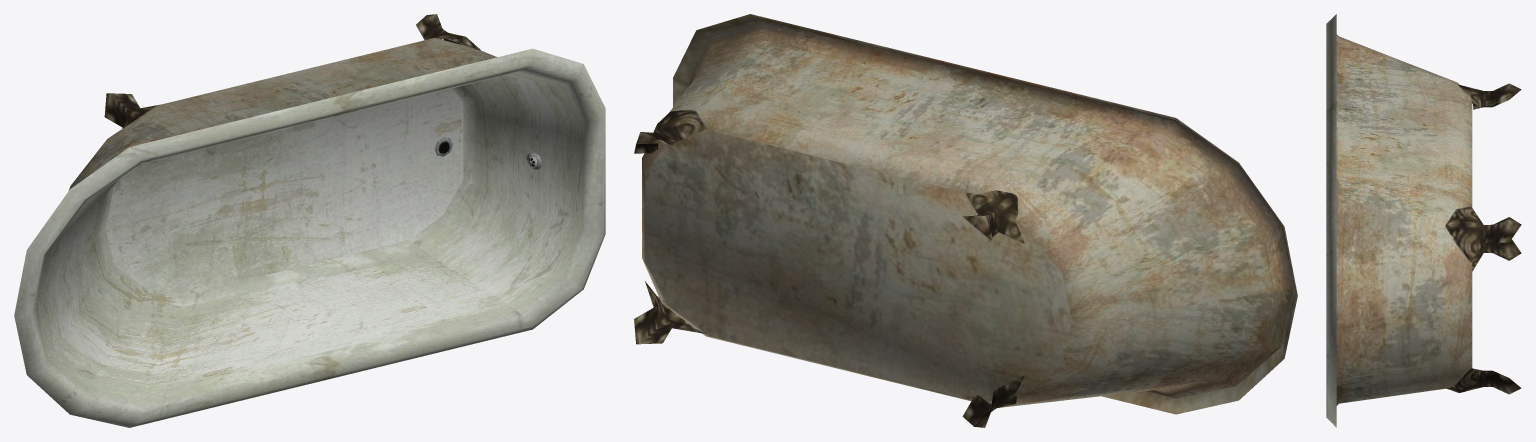
File: furniture_bathtub_obj.glb
3 renders of one model, left to right at view 1: azimuth 30°, elevation 25°; view 2: azimuth 150°, elevation 25°; view 3: azimuth 270°, elevation 25°, orthographic. The views are drawn at different scales.
Bounding box in the file's own units: 87.32 × 39.62 × 28.9.
1 material, 1 textured.
